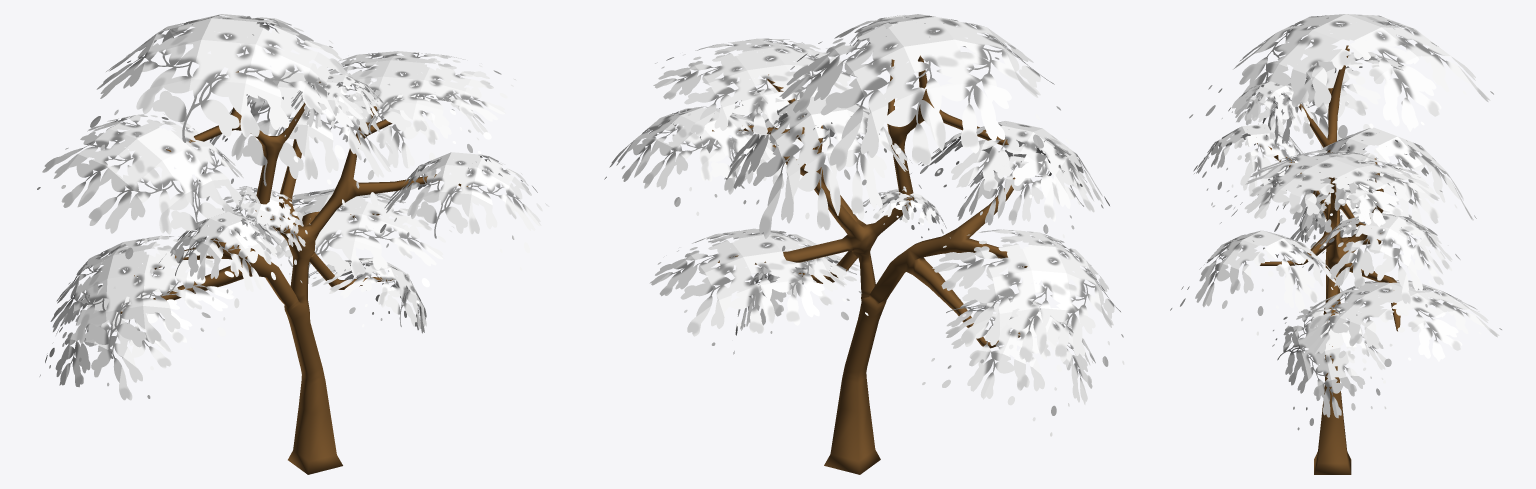
File: arvoreG1.fbx
3 renders of one model, left to right at view 1: azimuth 30°, elevation 25°; view 2: azimuth 150°, elevation 25°; view 3: azimuth 270°, elevation 25°, orthographic. The views are drawn at different scales.
Visible parts, largest first — view 1: ipe grande2; view 2: ipe grande2; view 3: ipe grande2.
Part boxes in pixels (x1=…): ipe grande2: x1=37, y1=14, x2=548, y2=474; ipe grande2: x1=604, y1=14, x2=1124, y2=474; ipe grande2: x1=1170, y1=14, x2=1501, y2=474.
Size of the model in its own units: 759 by 662 by 533.
2 materials, 1 textured.
